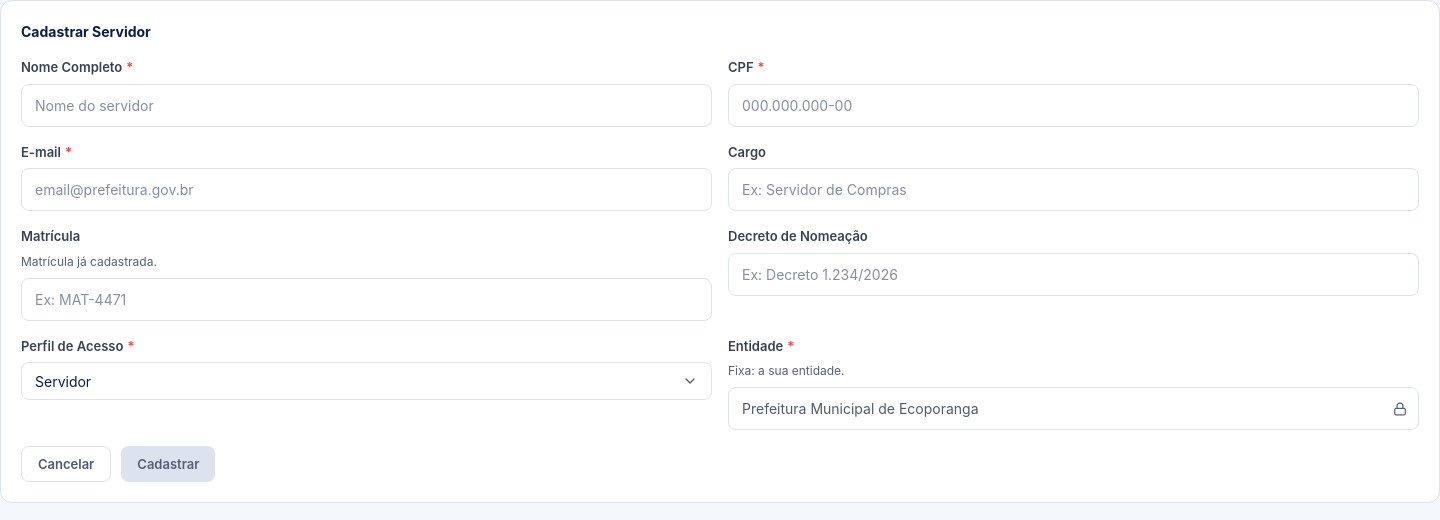
Scenario: cadastro de servidor › a recusa do servidor some quando a pessoa mexe no campo
Expected: the text "Matrícula já cadastrada." is shown, [21,254,157,268]
Type "MAT-9" into the field labelled "Matrícula".
click(366, 299); type("MAT-9")  # box [21,278,712,321]
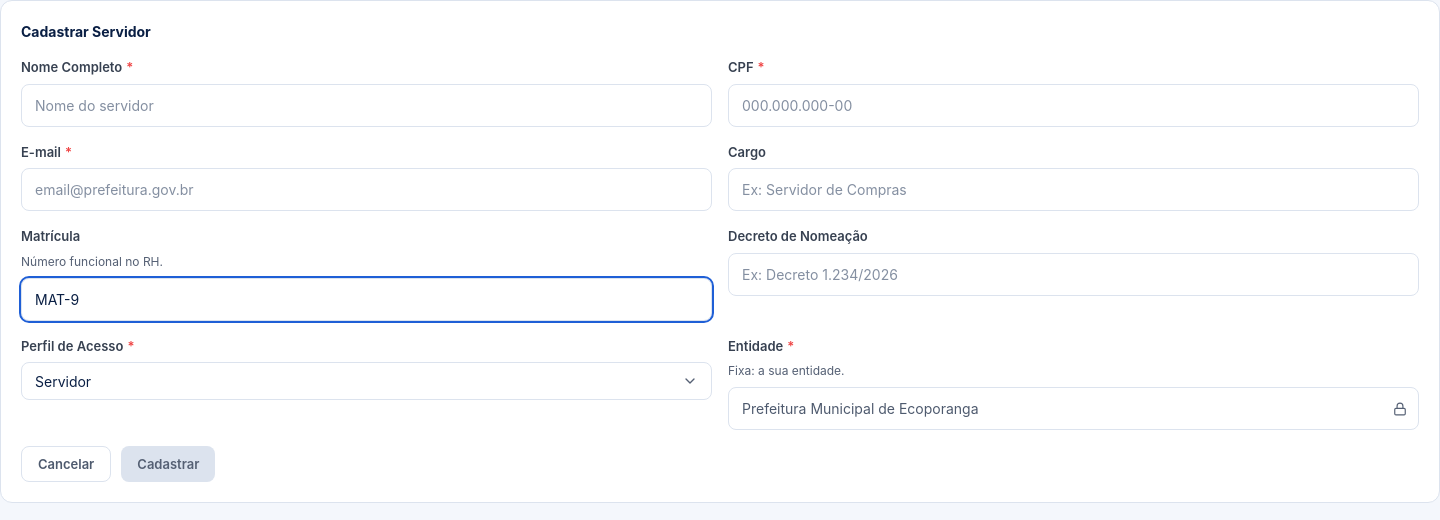
Expected: the text "Matrícula já cadastrada." is gone
